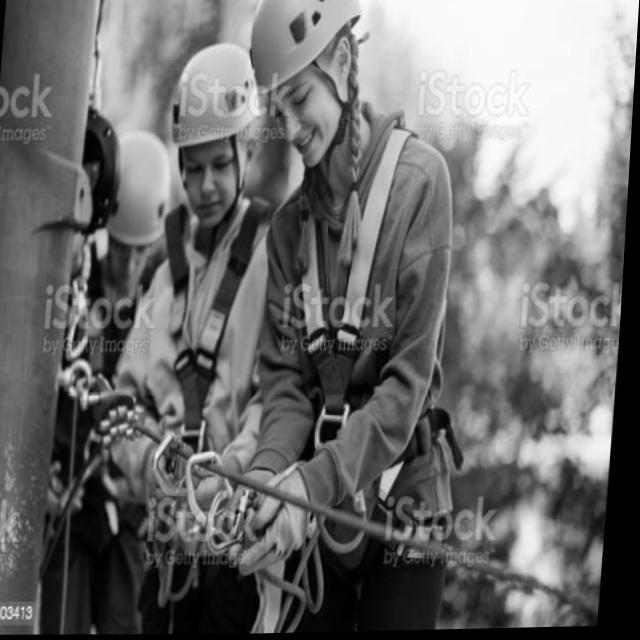belt: (276, 119, 478, 588), (143, 201, 277, 560), (63, 245, 163, 537)
